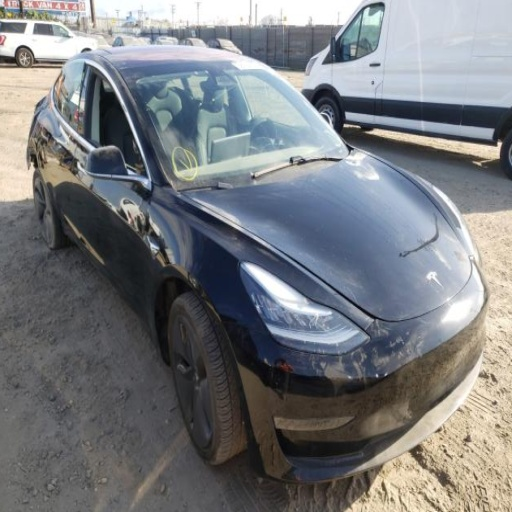rust: (279, 364, 295, 373)
